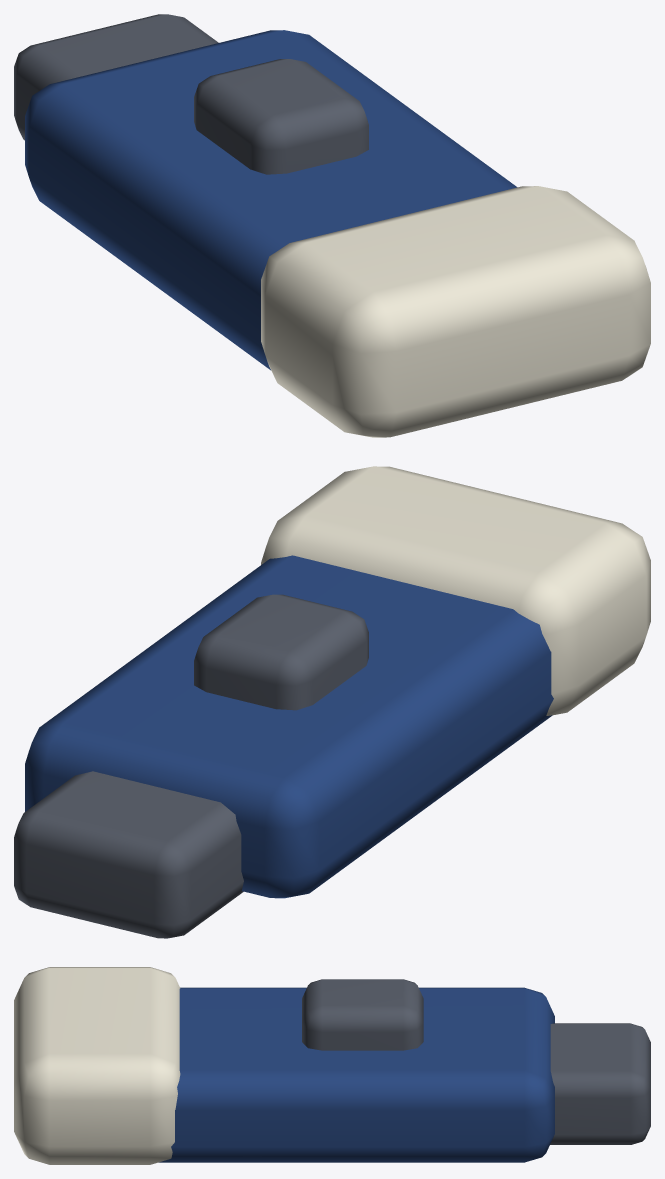
The model's file is walker_foot.glb.
3 renders of one model, top to bottom at view 1: azimuth 30°, elevation 25°; view 2: azimuth 150°, elevation 25°; view 3: azimuth 270°, elevation 25°, orthographic. The views are drawn at different scales.
Parts seen in each view (by area): view 1: foot_toe, foot, foot_post, foot_heel; view 2: foot, foot_toe, foot_heel, foot_post; view 3: foot, foot_toe, foot_heel, foot_post.
Boxes of the visible parts, x1=… form: foot_toe: x1=261, y1=186, x2=650, y2=437; foot: x1=25, y1=30, x2=517, y2=370; foot_post: x1=194, y1=59, x2=368, y2=174; foot_heel: x1=14, y1=14, x2=218, y2=140; foot: x1=25, y1=555, x2=553, y2=898; foot_toe: x1=261, y1=466, x2=650, y2=715; foot_heel: x1=14, y1=771, x2=243, y2=938; foot_post: x1=194, y1=594, x2=368, y2=710; foot: x1=159, y1=987, x2=554, y2=1162; foot_toe: x1=14, y1=967, x2=180, y2=1164; foot_heel: x1=550, y1=1023, x2=650, y2=1144; foot_post: x1=302, y1=979, x2=423, y2=1050.
Size of the model in its own units: 0.54 by 0.28 by 1.26.
